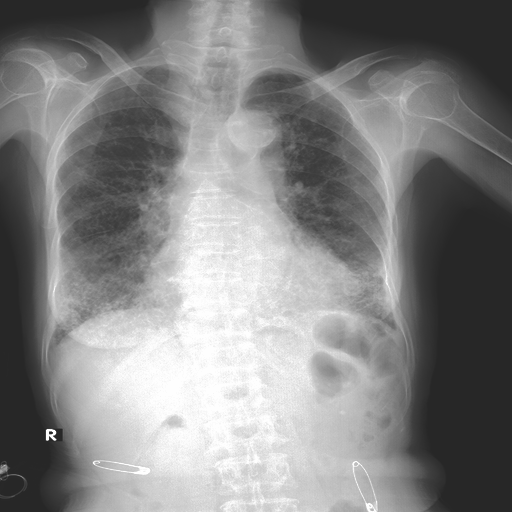Cardiomegaly: (241, 79, 401, 331), (47, 87, 170, 359)
Consolidation: (231, 111, 286, 162)
Nodule/Mass: (140, 254, 359, 312)
